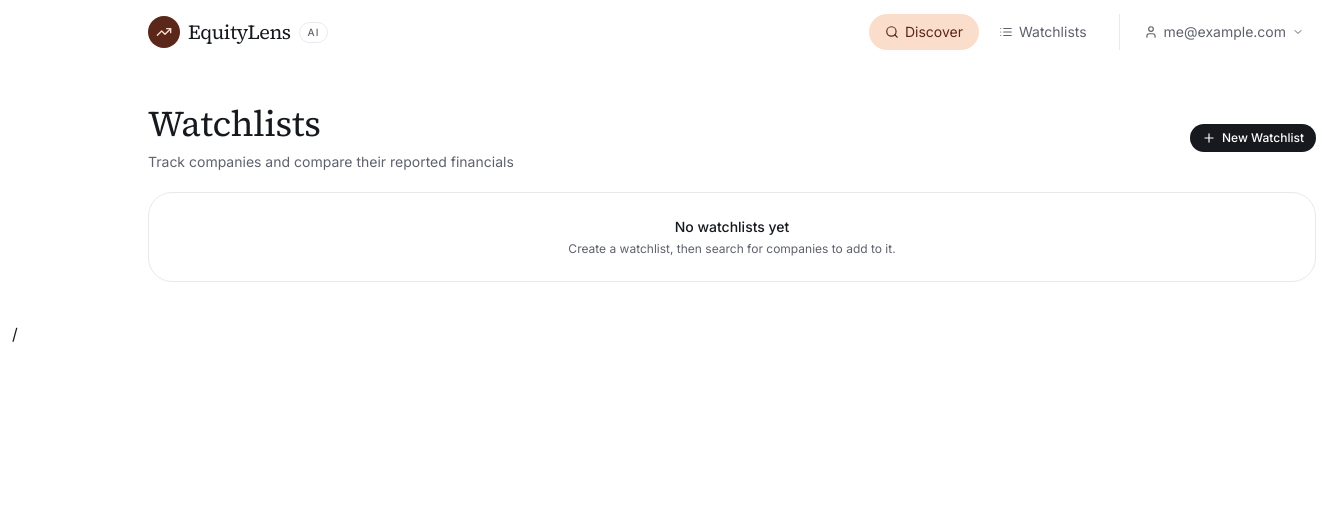
Test: WatchlistsPage › shows an empty state and creates a watchlist with only a name, sending CSRF
Expected: the text "No watchlists yet" is shown, [675,218,789,235]
Click the button "New Watchlist" at (1253, 138), box [1190,124,1316,152]
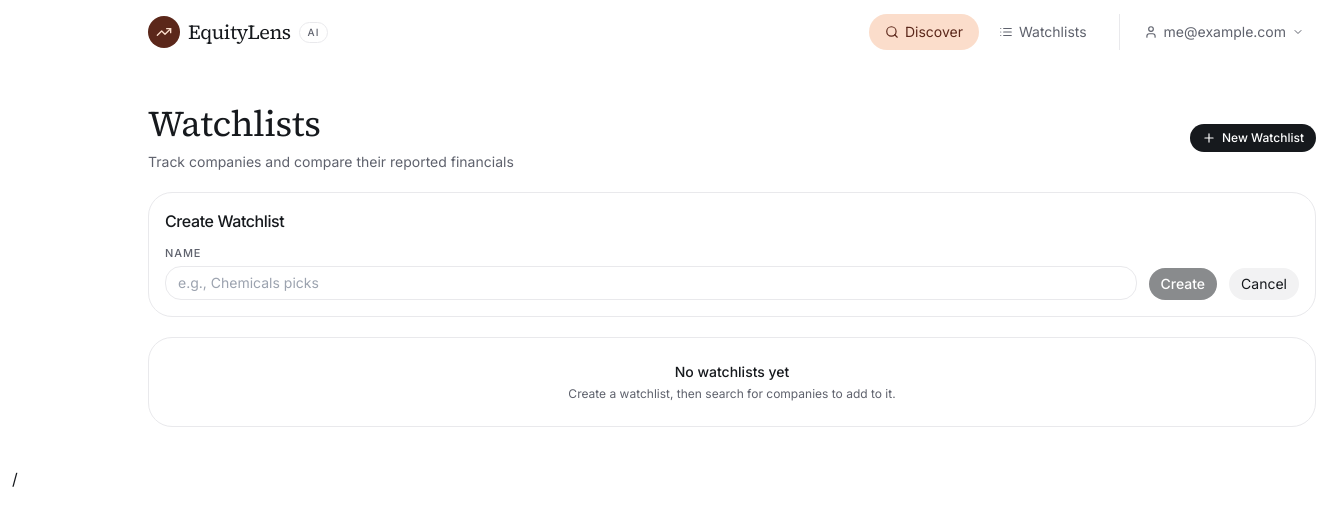
Type "My list" into the field labelled "Name" at (651, 282), box [165,266,1136,300]
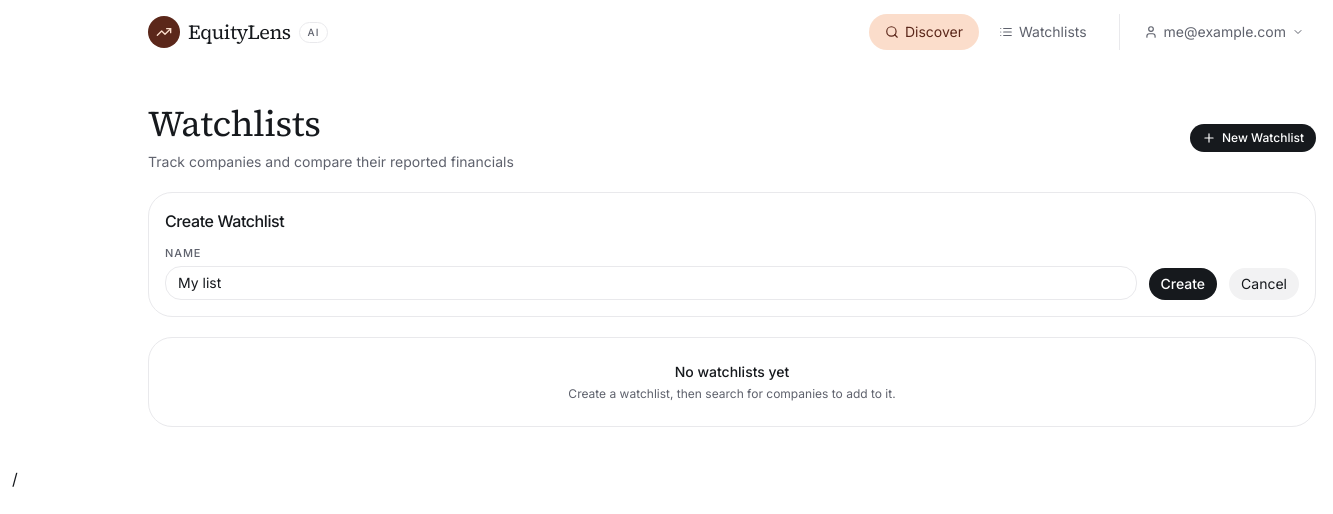
Click the button "Create" at (1183, 284), box [1148,268,1217,300]
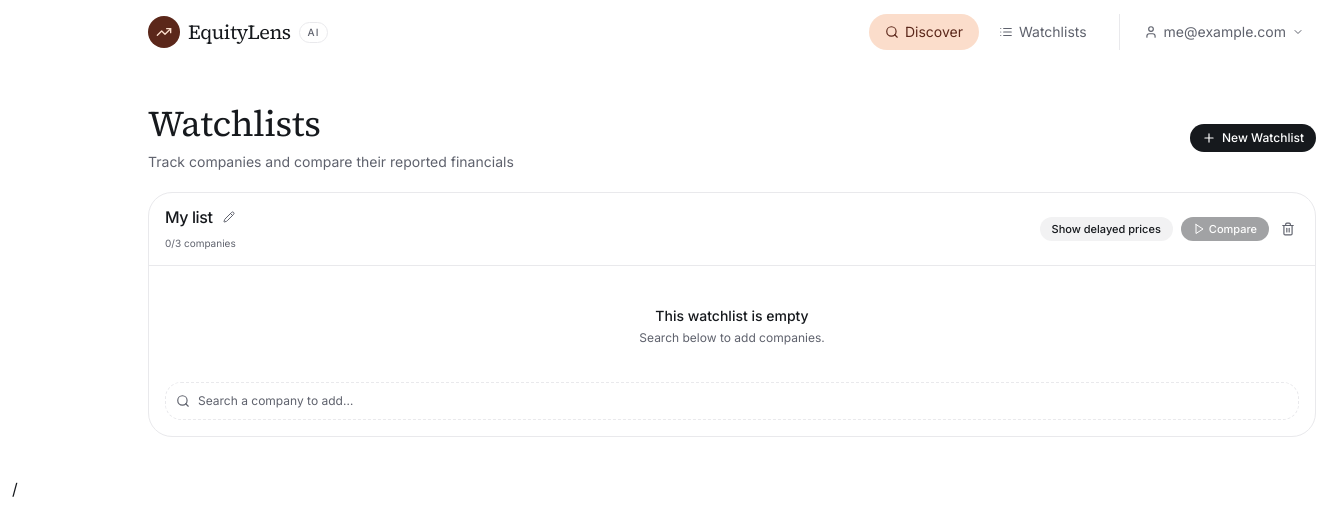
Now the heading "My list" is shown, box [165,205,212,229]
